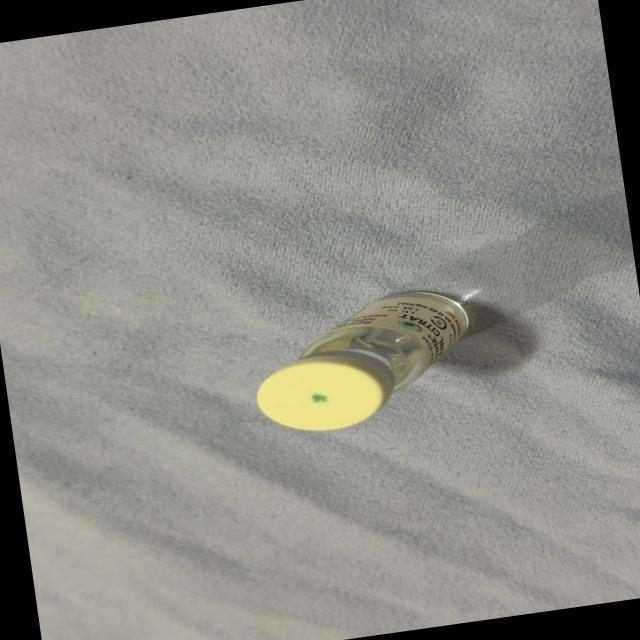fentanl_citrat: (248, 286, 479, 436)
